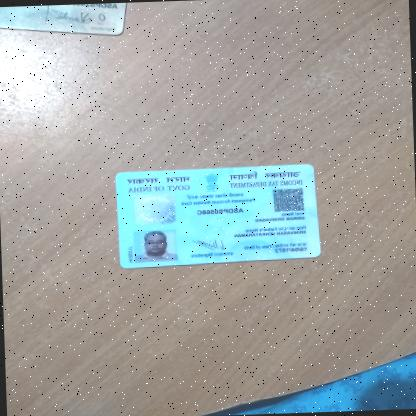pan_card: (112, 150, 325, 273)
